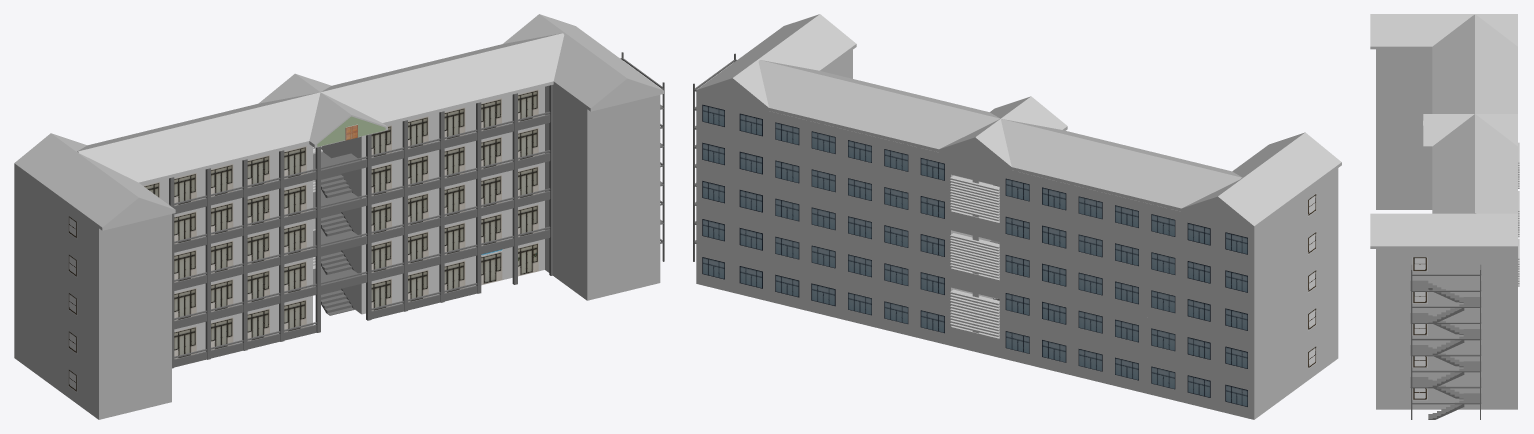
The model's file is toa nha B1.fbx.
3 views of the same model, side by side, from view 1: azimuth 30°, elevation 25°; view 2: azimuth 150°, elevation 25°; view 3: azimuth 270°, elevation 25° (orthographic). The views are drawn at different scales.
Visible parts, largest first — view 1: khung thep.001; view 2: khung thep.001; view 3: khung thep.001.
Part boxes in pixels (x1,y1,x2,y2): khung thep.001: [14, 14, 664, 419]; khung thep.001: [693, 14, 1341, 419]; khung thep.001: [1370, 14, 1519, 419].
Size of the model in its own units: 9608 by 3390 by 2530.
